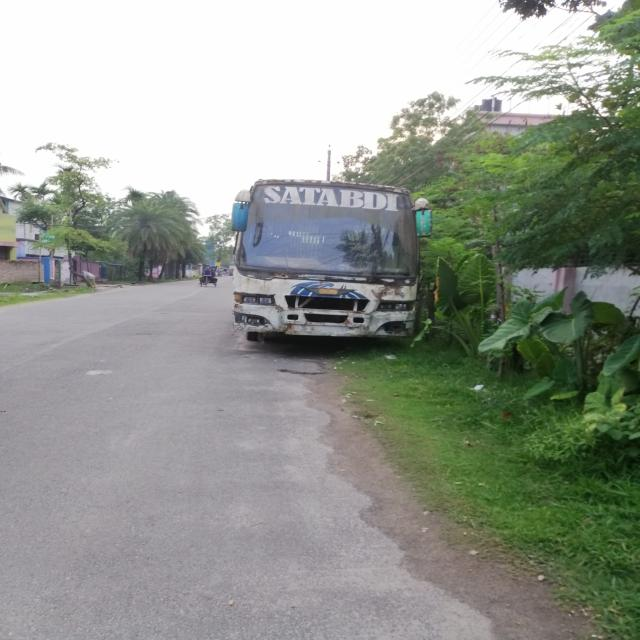Bus: (226, 175, 432, 346)
